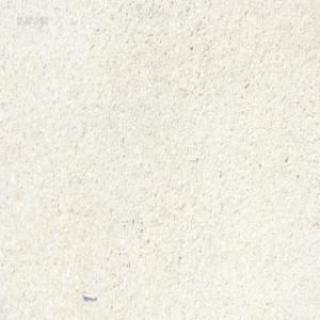Nailtrack_idkeyframe: (81, 289, 97, 299)
